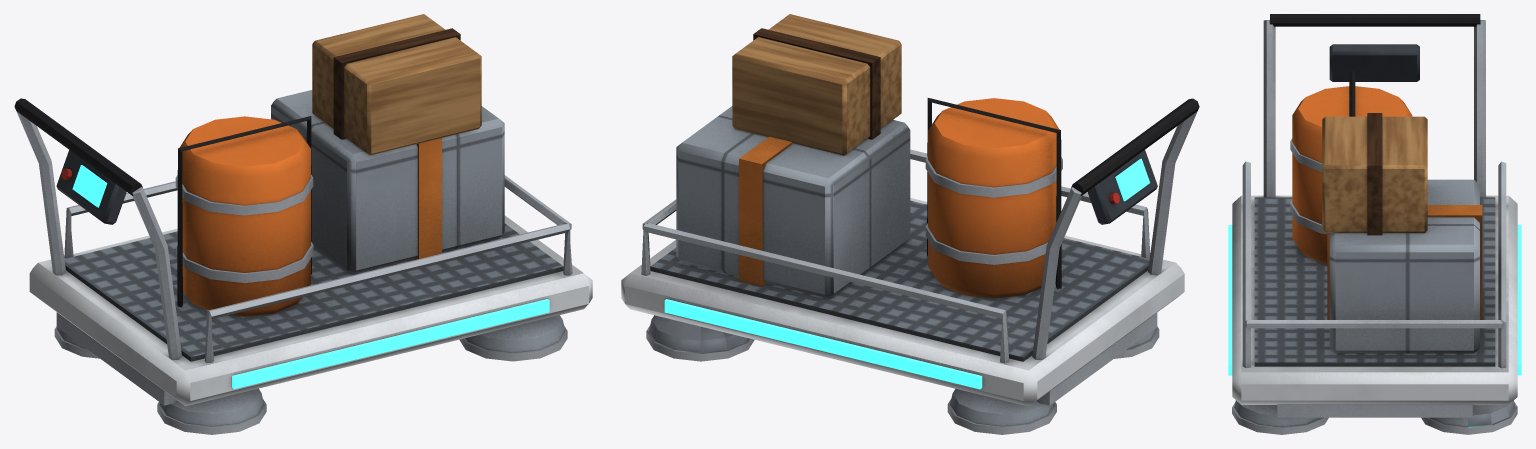
File: carro_carga.fbx
3 views of the same model, side by side, from view 1: azimuth 30°, elevation 25°; view 2: azimuth 150°, elevation 25°; view 3: azimuth 270°, elevation 25° (orthographic). The views are drawn at different scales.
Visible parts, largest first — view 1: carro_carga, carro_carga_neon, carro_carga_pantalla_neon; view 2: carro_carga, carro_carga_neon, carro_carga_pantalla_neon; view 3: carro_carga, carro_carga_neon.
Boxes of the visible parts, x1,y1,x2,y2 form: carro_carga: (14,14,592,434); carro_carga_neon: (232,299,549,389); carro_carga_pantalla_neon: (72,165,107,207); carro_carga: (621,14,1199,434); carro_carga_neon: (664,299,982,389); carro_carga_pantalla_neon: (1115,158,1149,201); carro_carga: (1232,14,1517,434); carro_carga_neon: (1228,224,1521,375).
Size of the model in its own units: 3.11 by 1.83 by 1.95.
Materials: 2 (2 with a texture image).
